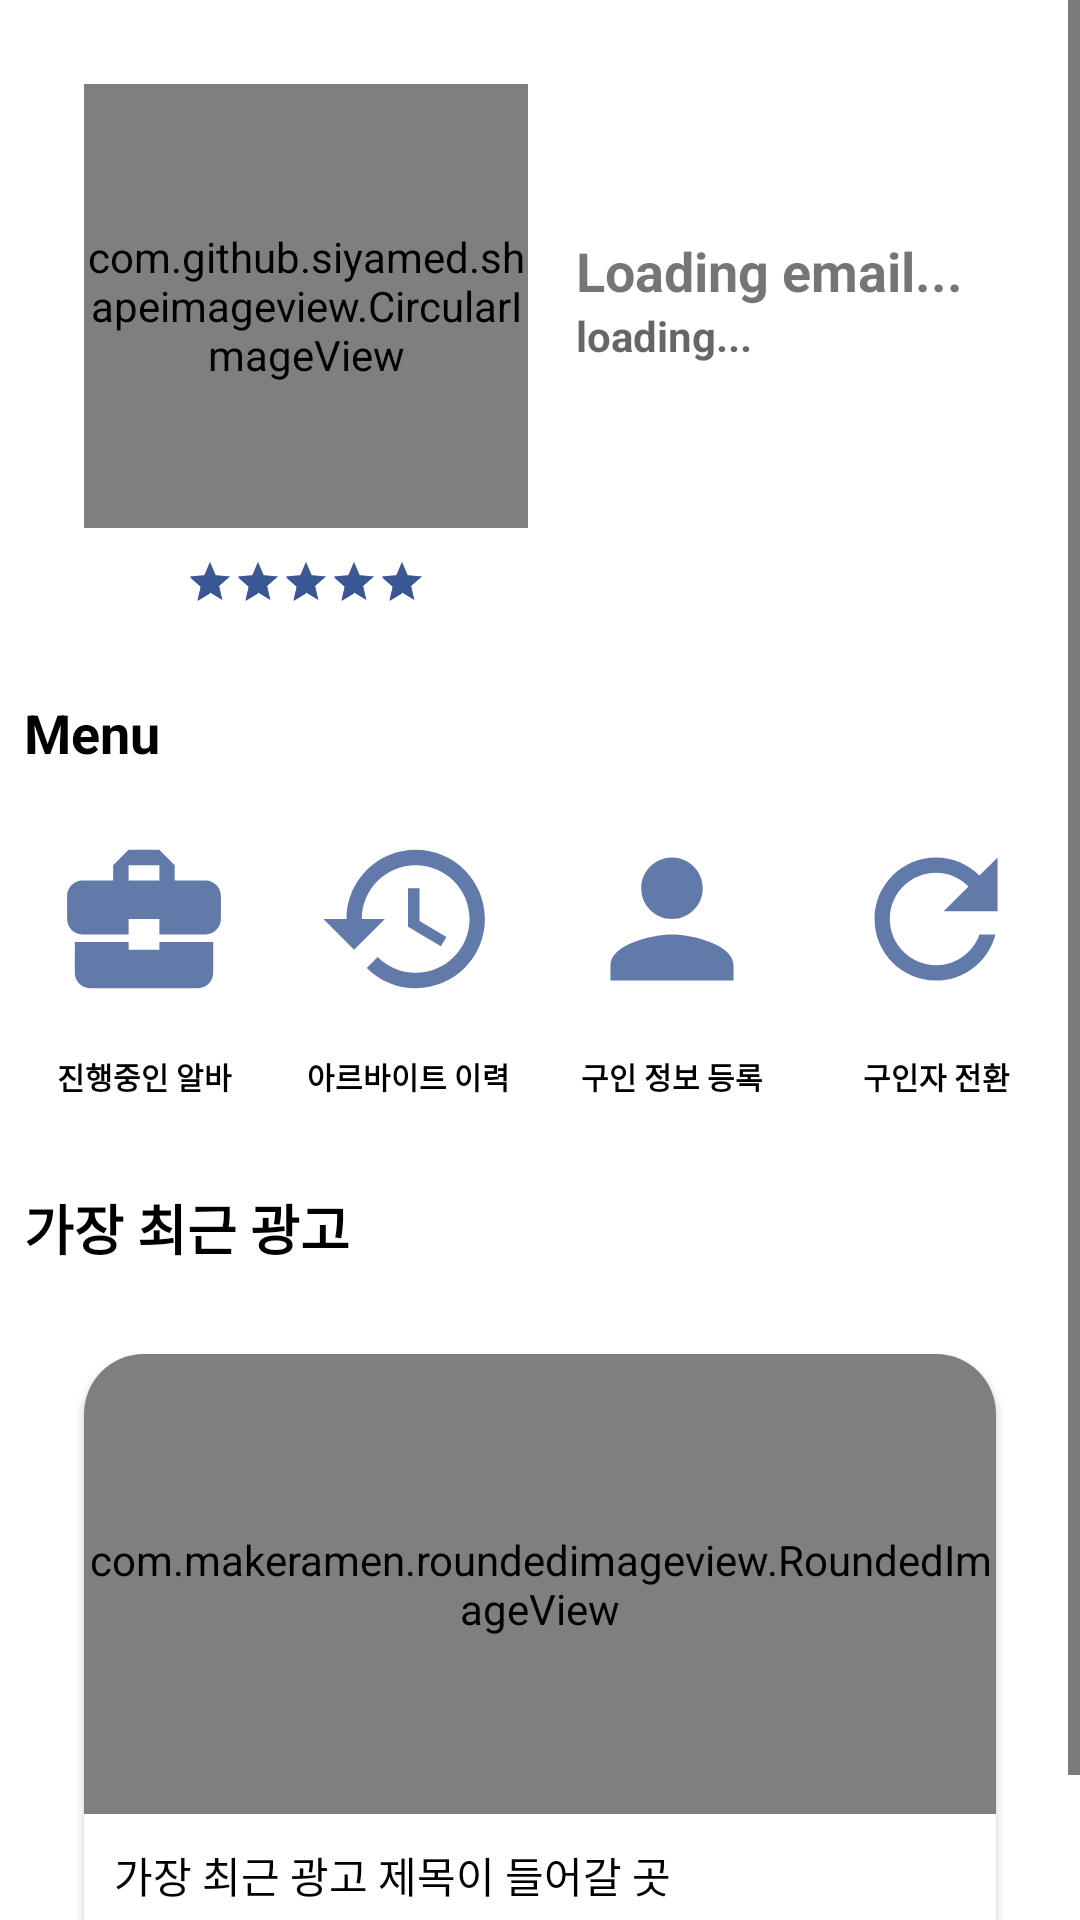

Icons on this 1080px×1920px Android screen, each with its box as (x1, y1, x2, y2):
modifyuser: (610, 857, 734, 981)
